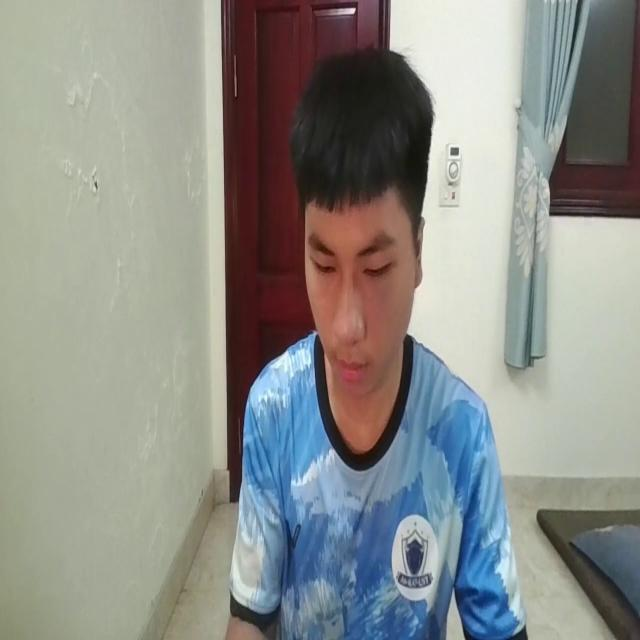student: (228, 33, 524, 640)
